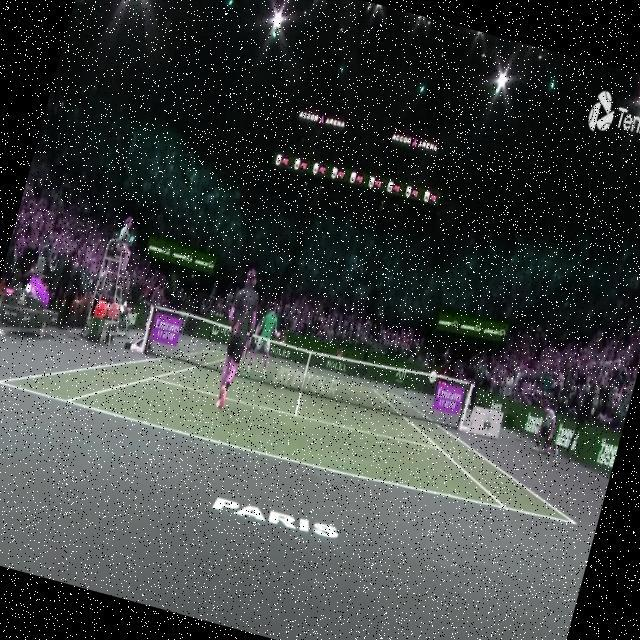court: (0, 290, 599, 540)
net: (139, 296, 475, 434)
player: (203, 263, 270, 411)
